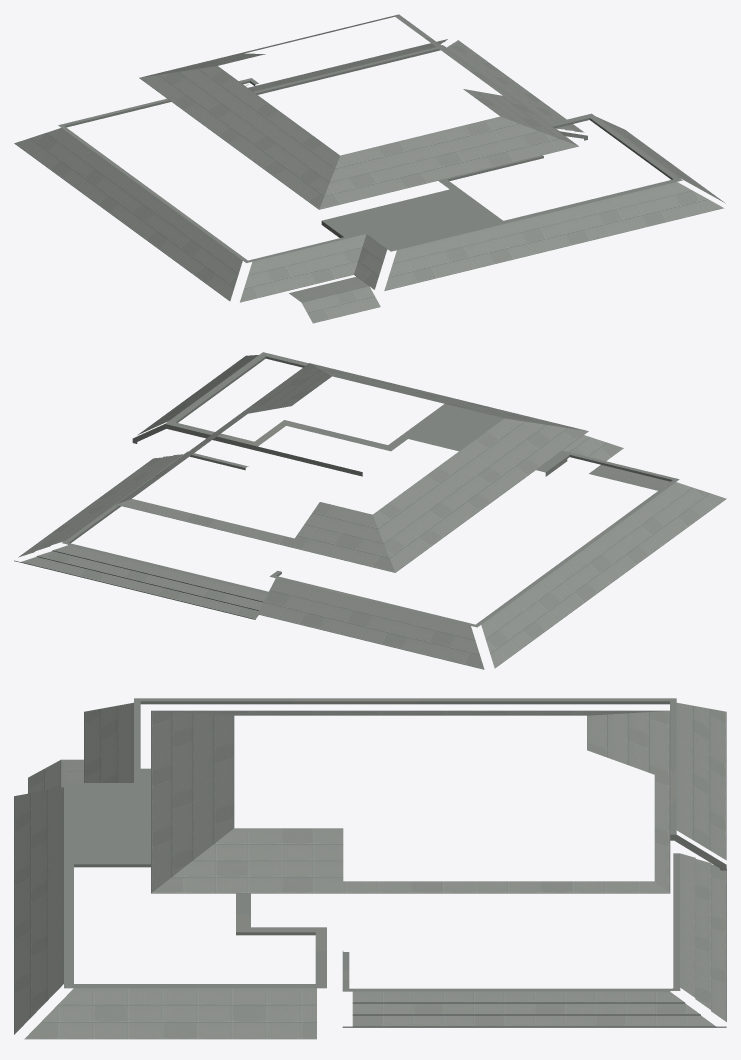
File: kd_stage_135ded_4_94_exterior.glb
The picture shows the model from 3 angles, top to bottom: view 1: azimuth 30°, elevation 25°; view 2: azimuth 150°, elevation 25°; view 3: azimuth 270°, elevation 25°; orthographic projection. The views are drawn at different scales.
Visible parts, largest first — view 1: kd_stage_135ded_4_94_exterior; view 2: kd_stage_135ded_4_94_exterior; view 3: kd_stage_135ded_4_94_exterior.
Boxes of the visible parts, box(x1,y1,x2,y2) form: kd_stage_135ded_4_94_exterior: box(14, 14, 725, 323); kd_stage_135ded_4_94_exterior: box(14, 352, 726, 669); kd_stage_135ded_4_94_exterior: box(14, 698, 726, 1039).
Size of the model in its own units: 11.8 by 2.18 by 10.71.
1 material, 1 textured.
